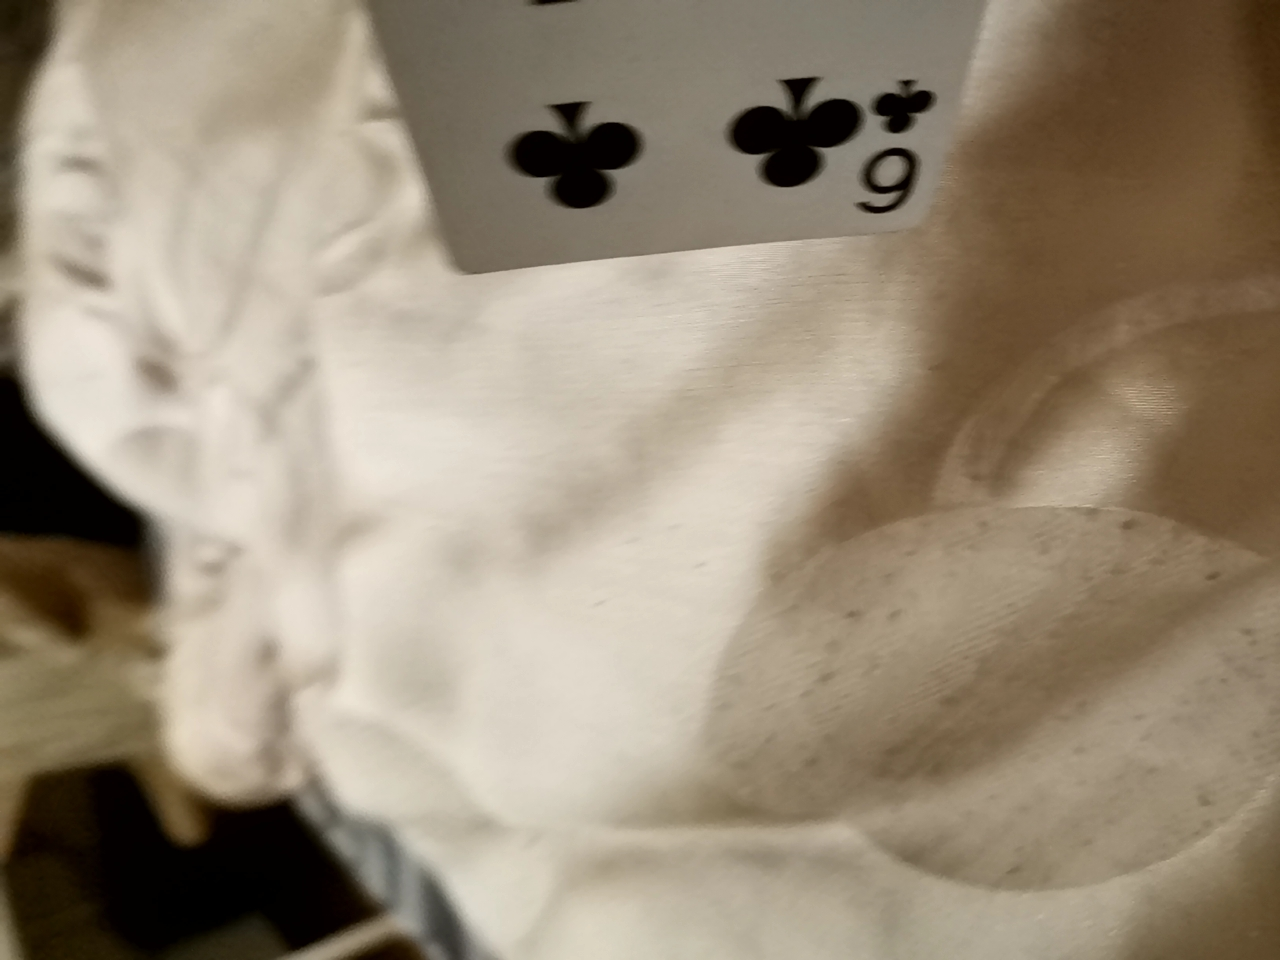mh 6: (406, 0, 1015, 212)
